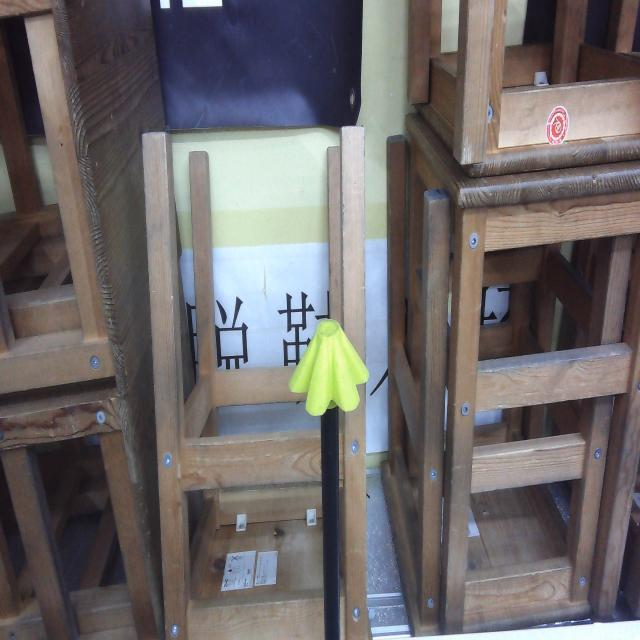Yellow-Stake-Head: (288, 318, 369, 416)
